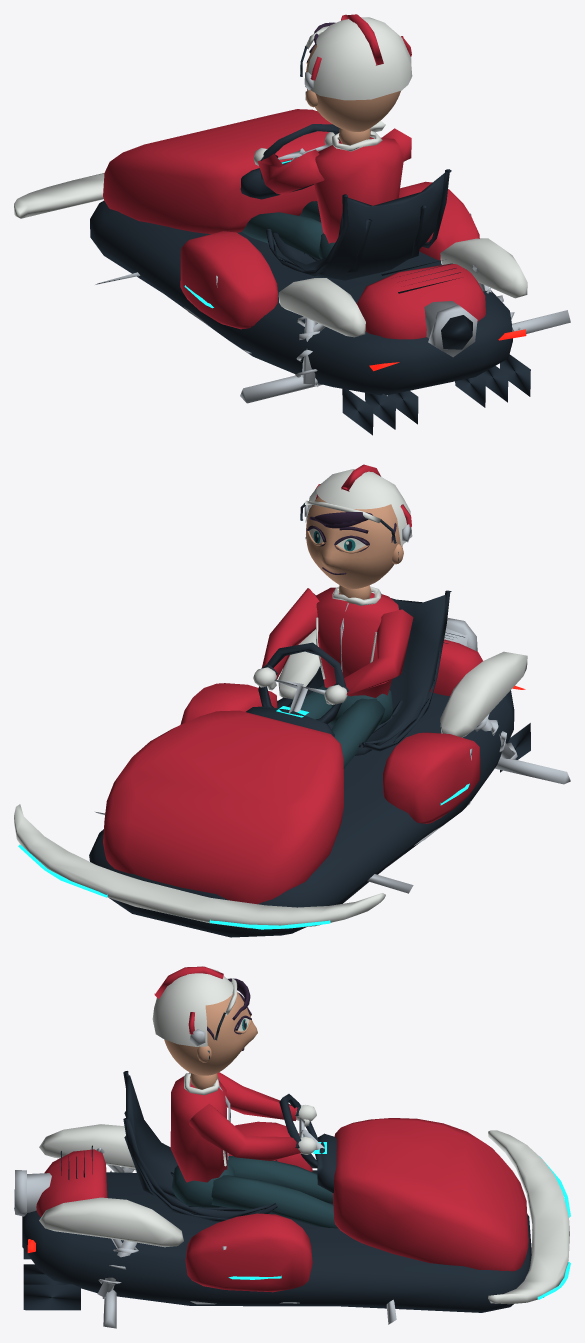
File: kestrel-kart-low-v2.glb
The picture shows the model from 3 angles, top to bottom: view 1: azimuth 30°, elevation 25°; view 2: azimuth 150°, elevation 25°; view 3: azimuth 270°, elevation 25°; orthographic projection. The views are drawn at different scales.
Parts seen in each view (by area): view 1: ContinuousLowerHull, SculptedProw, SweptFrontApron, FittedRacingJacket, PodVent-1_0, AsterContinuousFace, EarInset-1, ContinuousSleeve-1; view 2: SculptedProw, ContinuousLowerHull, SweptFrontApron, AsterContinuousFace, FittedRacingJacket, PodVent-1_0, EarInset-1, ContinuousSleeve-1, ContinuousSleeve1, EyeSocket-1, InstrumentScreen; view 3: SculptedProw, ContinuousLowerHull, SweptFrontApron, EarInset-1, FittedRacingJacket, AsterContinuousFace, PodVent-1_0, ContinuousSleeve1, ContinuousSleeve-1, InstrumentScreen, EyeSocket-1.
Part boxes in pixels (box(x1,y1,x2,y2)): ContinuousLowerHull: box(90, 46, 530, 435); SculptedProw: box(103, 14, 485, 339); SweptFrontApron: box(14, 17, 527, 337); FittedRacingJacket: box(314, 137, 403, 243); PodVent-1_0: box(95, 55, 570, 403); AsterContinuousFace: box(305, 44, 400, 145); EarInset-1: box(242, 91, 334, 259); ContinuousSleeve-1: box(257, 149, 324, 194); SculptedProw: box(103, 464, 482, 904); ContinuousLowerHull: box(89, 503, 530, 937); SweptFrontApron: box(14, 469, 527, 928); AsterContinuousFace: box(306, 496, 403, 603); FittedRacingJacket: box(316, 587, 398, 697); PodVent-1_0: box(95, 505, 570, 893); EarInset-1: box(290, 537, 398, 768); ContinuousSleeve-1: box(344, 609, 413, 695); ContinuousSleeve1: box(262, 588, 319, 679); EyeSocket-1: box(306, 508, 396, 574); InstrumentScreen: box(18, 706, 469, 929); SculptedProw: box(36, 966, 528, 1292); ContinuousLowerHull: box(14, 1012, 531, 1312); SweptFrontApron: box(39, 966, 569, 1304); EarInset-1: box(172, 1050, 338, 1228); FittedRacingJacket: box(170, 1072, 227, 1182); AsterContinuousFace: box(164, 992, 257, 1089); PodVent-1_0: box(15, 1029, 396, 1328); ContinuousSleeve1: box(188, 1103, 300, 1160); ContinuousSleeve-1: box(217, 1072, 297, 1120); InstrumentScreen: box(228, 1142, 570, 1299); EyeSocket-1: box(207, 978, 251, 1050).
Size of the model in its own units: 1.63 by 1.41 by 2.31.
